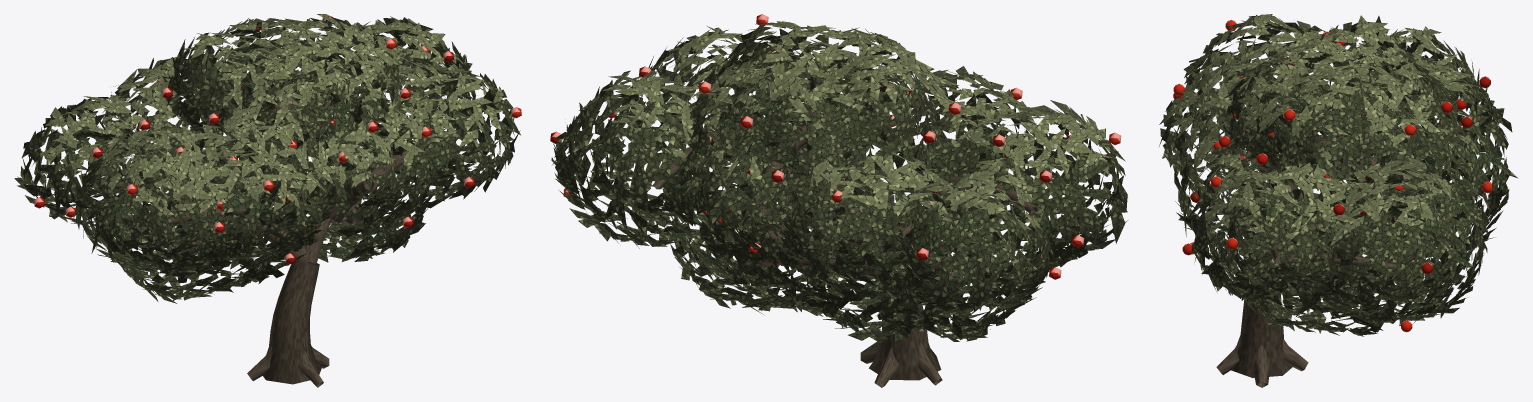
The model's file is tree_fruit_hd.glb.
3 views of the same model, side by side, from view 1: azimuth 30°, elevation 25°; view 2: azimuth 150°, elevation 25°; view 3: azimuth 270°, elevation 25° (orthographic). The views are drawn at different scales.
Visible parts, largest first — view 1: tree_fruit_lod0; view 2: tree_fruit_lod0; view 3: tree_fruit_lod0.
Boxes of the visible parts, left/top/right/bottom form: tree_fruit_lod0: left=14, top=14, right=521, bottom=387; tree_fruit_lod0: left=550, top=14, right=1127, bottom=387; tree_fruit_lod0: left=1159, top=14, right=1518, bottom=387.
Size of the model in its own units: 4.39 by 3.03 by 2.96.
Materials: 1 (1 with a texture image).
